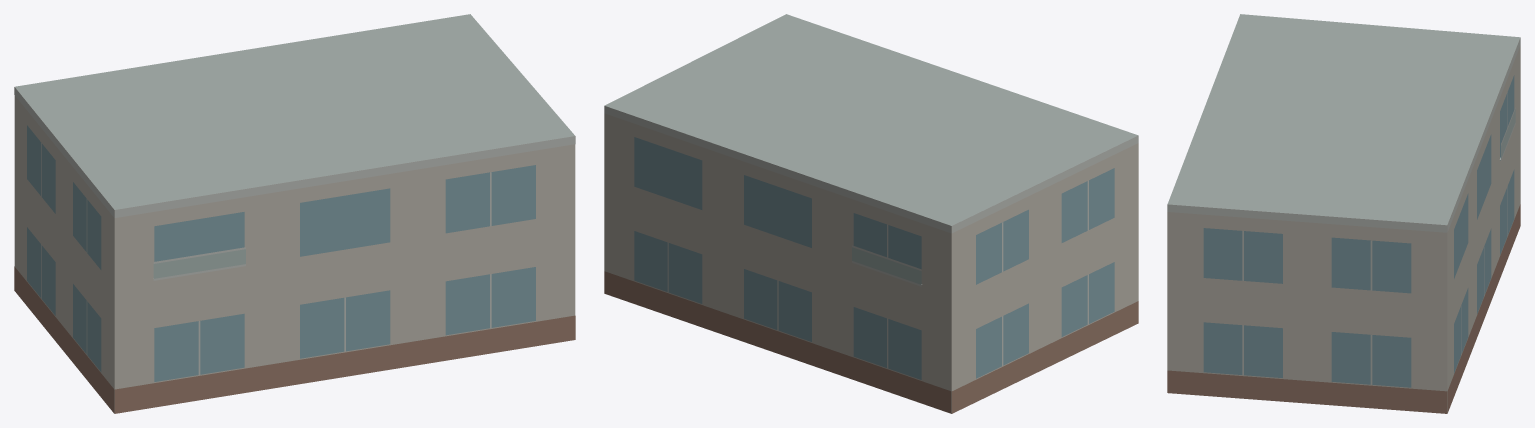
The model's file is survey-upis-32484531.glb.
The picture shows the model from 3 angles, left to right: view 1: azimuth 30°, elevation 25°; view 2: azimuth 150°, elevation 25°; view 3: azimuth 270°, elevation 25°; orthographic projection. The views are drawn at different scales.
Parts seen in each view (by area): view 1: survey-upis-32484531.tmp; view 2: survey-upis-32484531.tmp; view 3: survey-upis-32484531.tmp.
Boxes of the visible parts, bbox=[...] form: survey-upis-32484531.tmp: bbox=[14, 14, 575, 413]; survey-upis-32484531.tmp: bbox=[604, 14, 1138, 413]; survey-upis-32484531.tmp: bbox=[1167, 14, 1520, 413].
Size of the model in its own units: 14.66 by 6.1 by 10.36.
